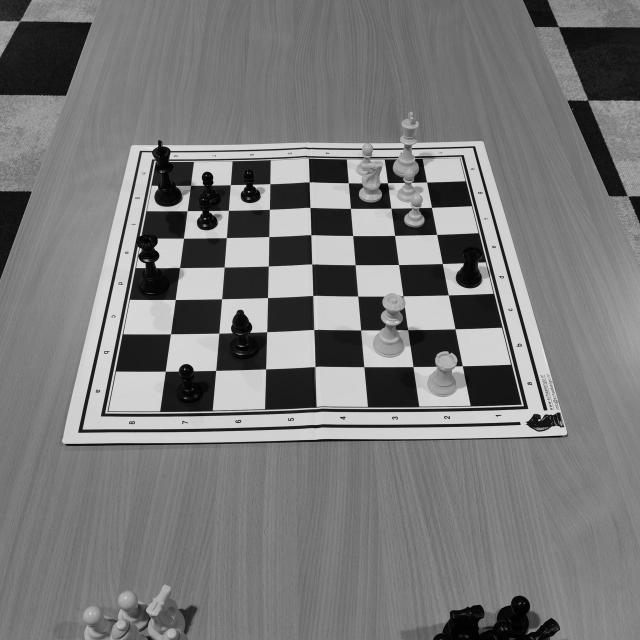chessboard: (101, 157, 527, 415)
